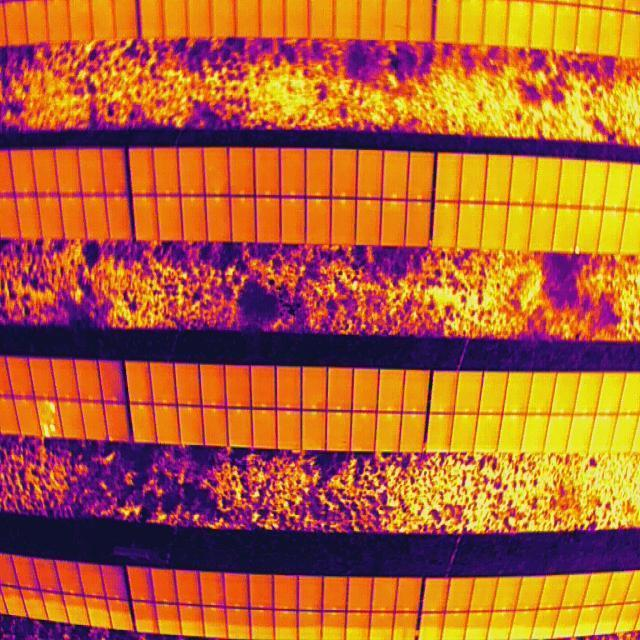hotspot: (38, 399, 59, 439)
